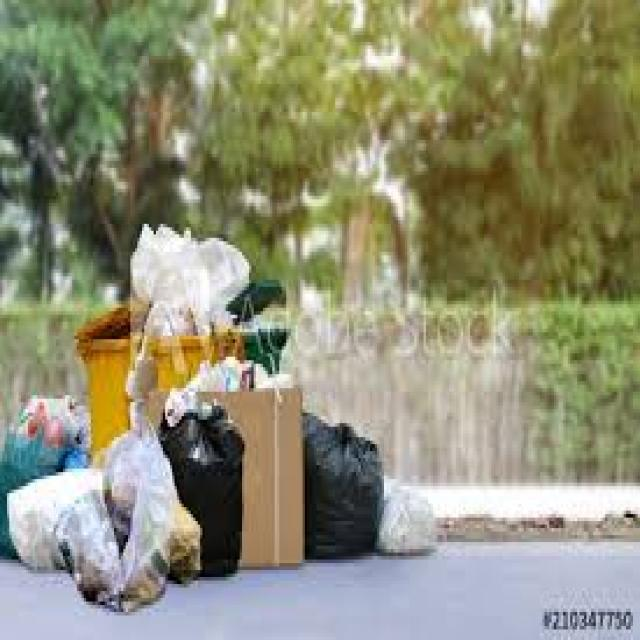Trashbag: (152, 401, 261, 580), (291, 401, 393, 570)
